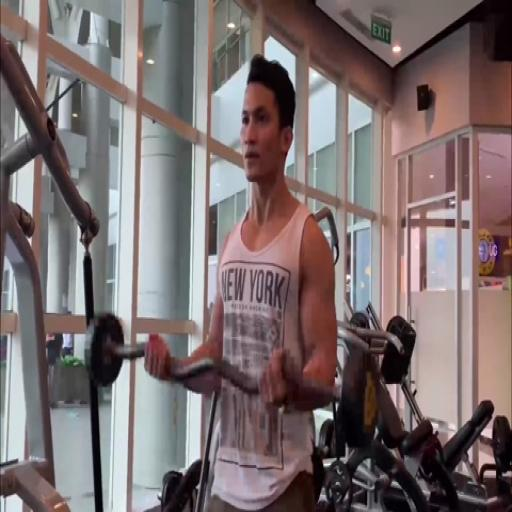exercise: (142, 52, 340, 510)
